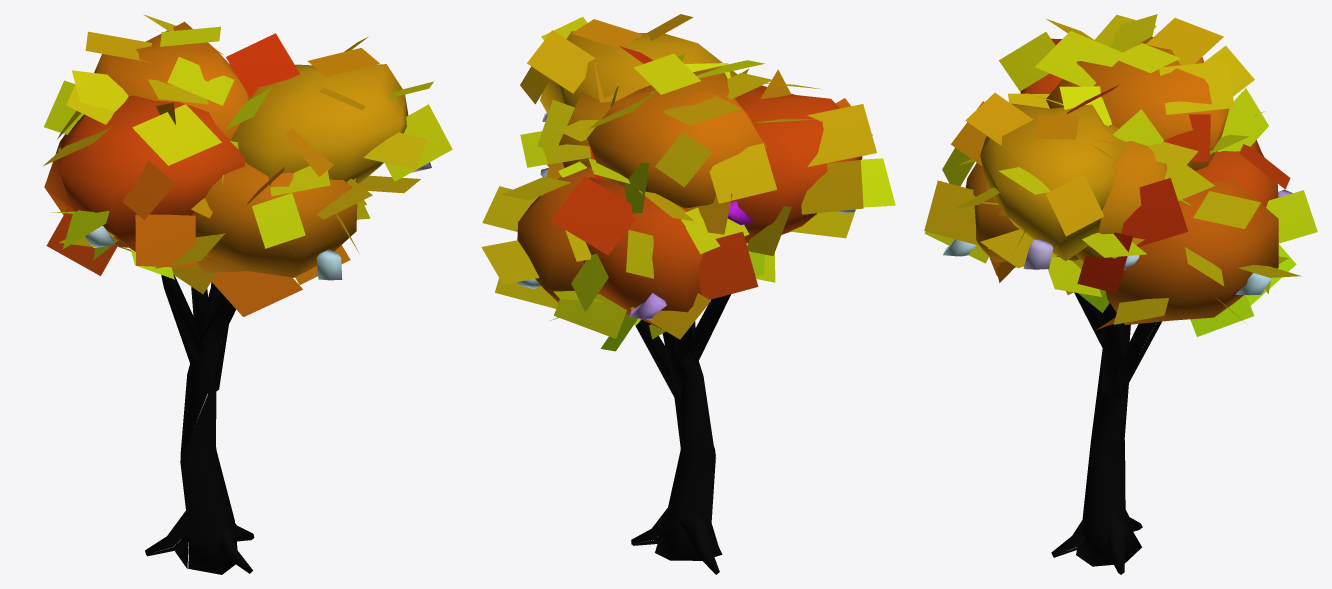
File: tree_fruit_lod1.glb
The picture shows the model from 3 angles, left to right: view 1: azimuth 30°, elevation 25°; view 2: azimuth 150°, elevation 25°; view 3: azimuth 270°, elevation 25°; orthographic projection. The views are drawn at different scales.
Visible parts, largest first — view 1: foliage_painted_crown, foliage_leaf_sprays, bark_branching_trunk, fruit_warm_accents; view 2: foliage_leaf_sprays, foliage_painted_crown, bark_branching_trunk, fruit_warm_accents; view 3: foliage_leaf_sprays, foliage_painted_crown, bark_branching_trunk, fruit_warm_accents.
Part boxes in pixels (box(x1,y1,x2,y2)): foliage_painted_crown: box(44, 21, 408, 277); foliage_leaf_sprays: box(42, 14, 452, 316); bark_branching_trunk: box(145, 275, 254, 574); fruit_warm_accents: box(85, 162, 431, 280); foliage_leaf_sprays: box(481, 14, 895, 351); foliage_painted_crown: box(517, 31, 862, 329); bark_branching_trunk: box(631, 294, 730, 574); fruit_warm_accents: box(517, 113, 855, 319); foliage_leaf_sprays: box(924, 14, 1317, 336); foliage_painted_crown: box(965, 36, 1278, 325); bark_branching_trunk: box(1051, 292, 1161, 574); fruit_warm_accents: box(943, 189, 1292, 295).
Size of the model in its own units: 3.27 by 4.22 by 2.99.
